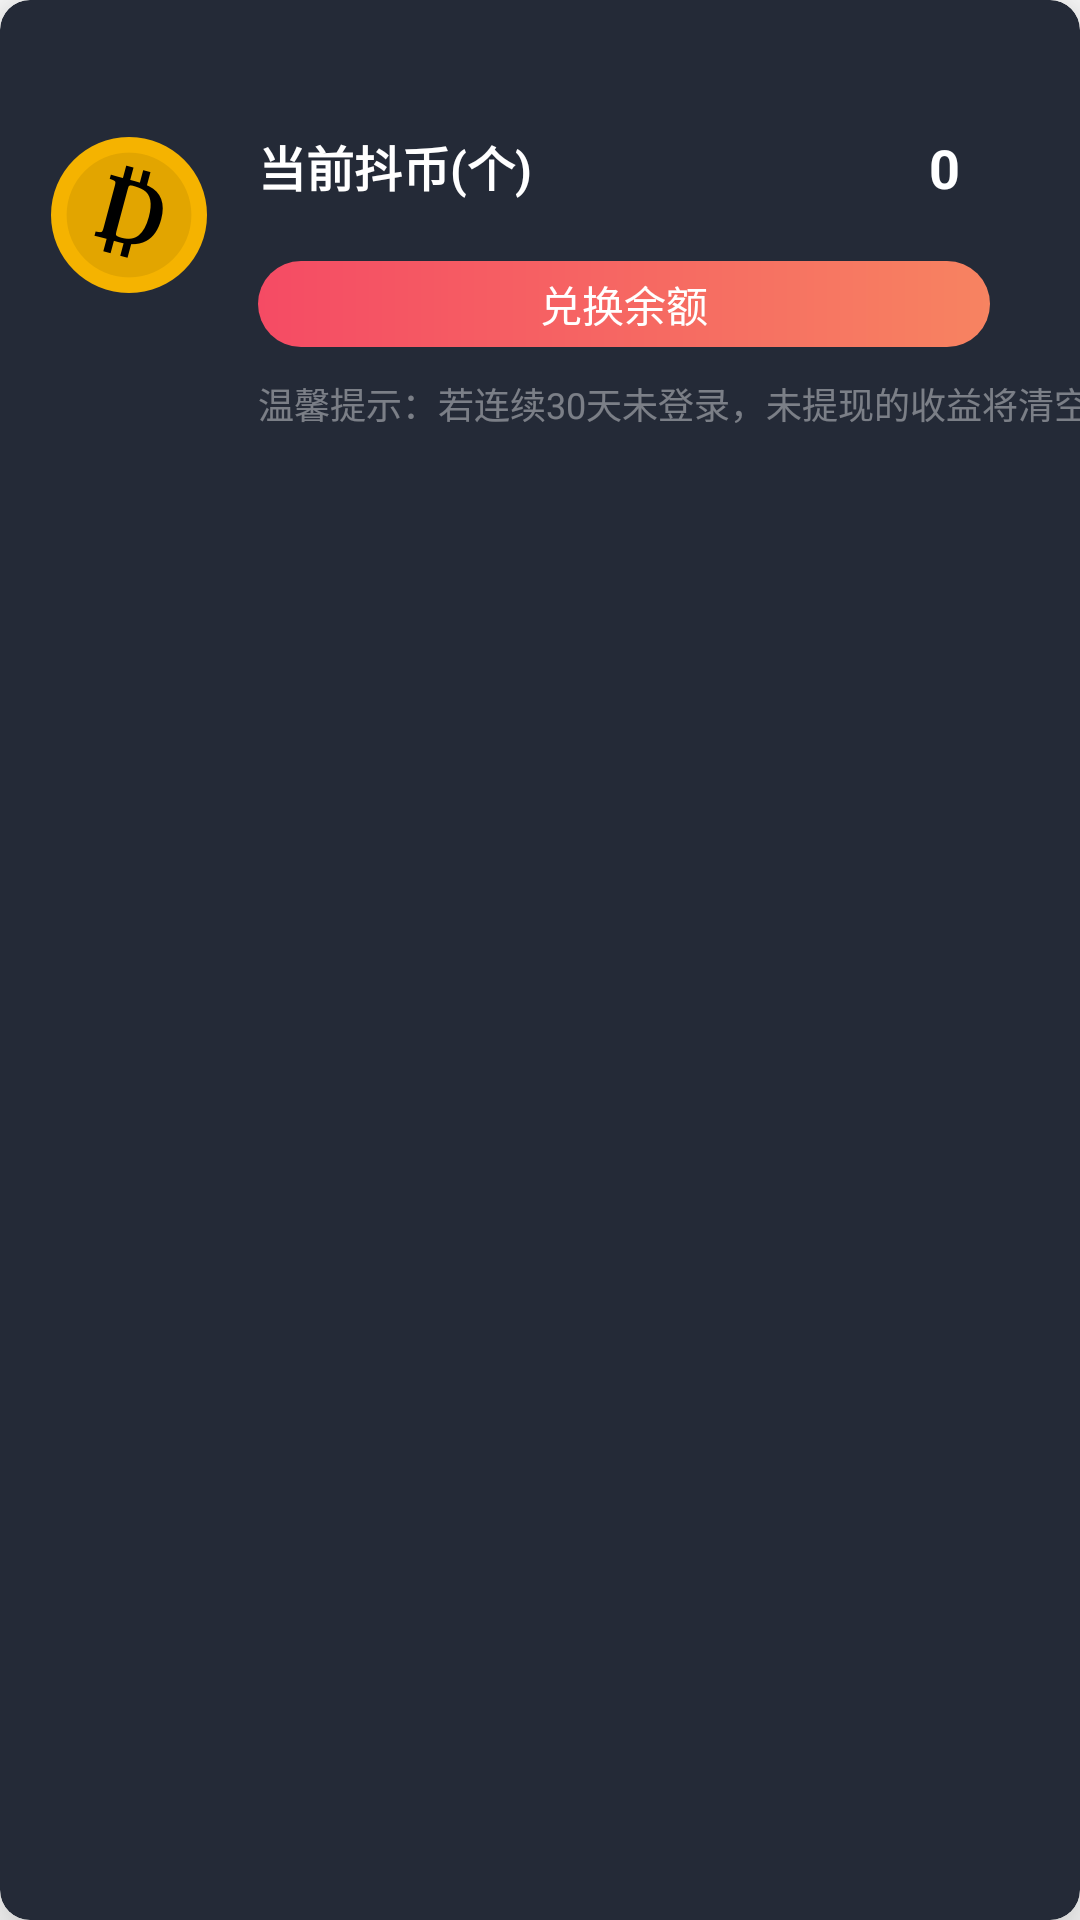

Screen size 1080 × 1920. Icon name, then its box in pixels as (x1, y1, x2, y2):
tikcoins: (51, 137, 207, 293)
